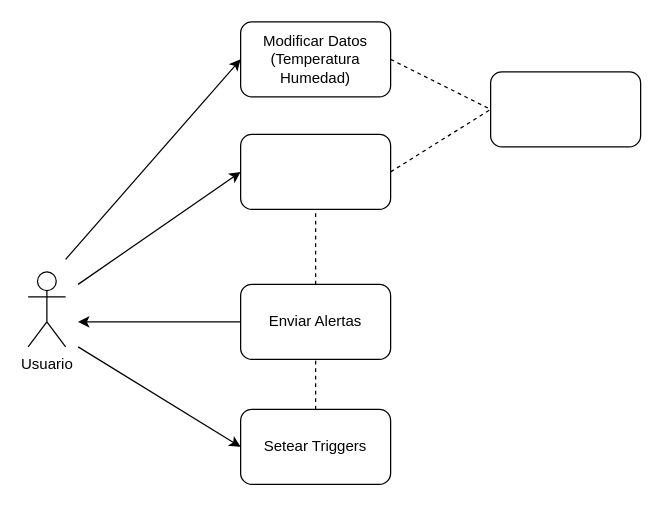
This 663x506 diagram has some shape labels left out. Each missing label, with the centre of its shape:
"Guardar Historico" goes at (565,109).
"Leer Datos (Temperatura Humedad)" goes at (315,171).
